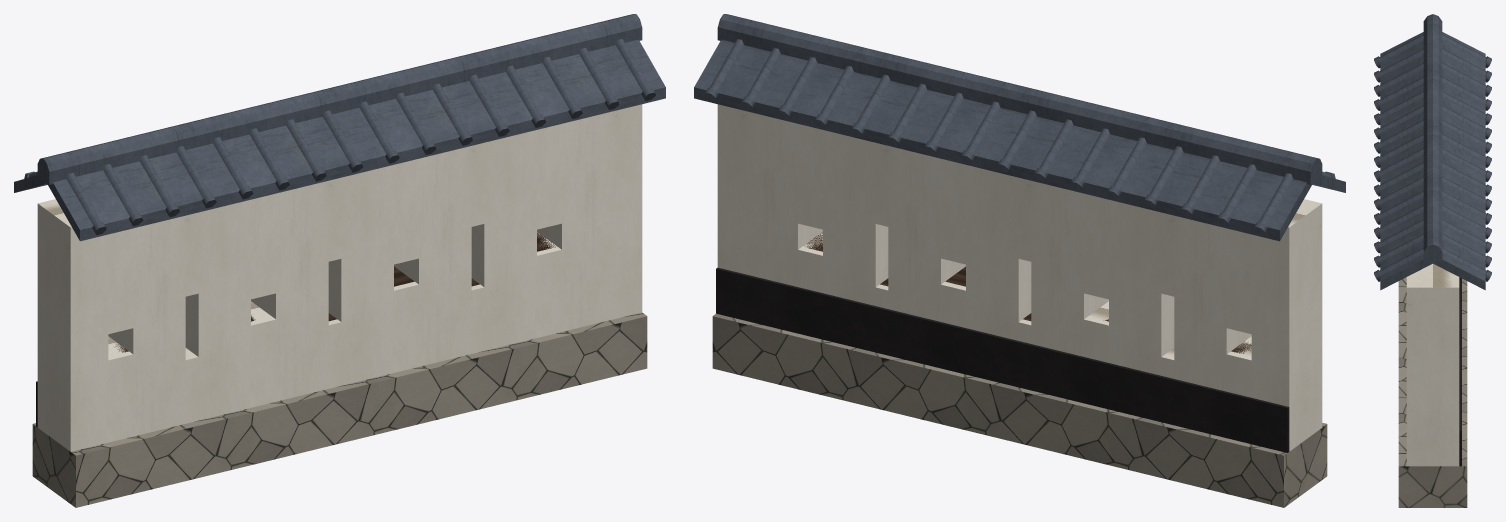
Rendered from HO_Wall_Castle_Straight_16.fbx.
3 renders of one model, left to right at view 1: azimuth 30°, elevation 25°; view 2: azimuth 150°, elevation 25°; view 3: azimuth 270°, elevation 25°, orthographic. The views are drawn at different scales.
Parts seen in each view (by area): view 1: HO_Wall_Castle_Straight_16__Plaster_White, HO_Wall_Castle_Straight_16__RoofTile_Clay, HO_Wall_Castle_Straight_16__Stone_Fitted; view 2: HO_Wall_Castle_Straight_16__Plaster_White, HO_Wall_Castle_Straight_16__RoofTile_Clay, HO_Wall_Castle_Straight_16__Stone_Fitted, HO_Wall_Castle_Straight_16__Black_Lacquer; view 3: HO_Wall_Castle_Straight_16__RoofTile_Clay, HO_Wall_Castle_Straight_16__Plaster_White, HO_Wall_Castle_Straight_16__Stone_Fitted, HO_Wall_Castle_Straight_16__Black_Lacquer.
Boxes of the visible parts, left/top/right/bottom form: HO_Wall_Castle_Straight_16__Plaster_White: left=37, top=104, right=642, bottom=451; HO_Wall_Castle_Straight_16__RoofTile_Clay: left=14, top=14, right=665, bottom=241; HO_Wall_Castle_Straight_16__Stone_Fitted: left=32, top=312, right=647, bottom=507; HO_Wall_Castle_Straight_16__Plaster_White: left=717, top=104, right=1322, bottom=451; HO_Wall_Castle_Straight_16__RoofTile_Clay: left=694, top=14, right=1345, bottom=241; HO_Wall_Castle_Straight_16__Stone_Fitted: left=712, top=313, right=1327, bottom=507; HO_Wall_Castle_Straight_16__Black_Lacquer: left=716, top=267, right=1289, bottom=452; HO_Wall_Castle_Straight_16__RoofTile_Clay: left=1374, top=14, right=1491, bottom=290; HO_Wall_Castle_Straight_16__Plaster_White: left=1406, top=264, right=1459, bottom=466; HO_Wall_Castle_Straight_16__Stone_Fitted: left=1398, top=277, right=1467, bottom=507; HO_Wall_Castle_Straight_16__Black_Lacquer: left=1459, top=277, right=1461, bottom=466.
Bounding box in the file's own units: 16.6 × 8.99 × 3.59.
